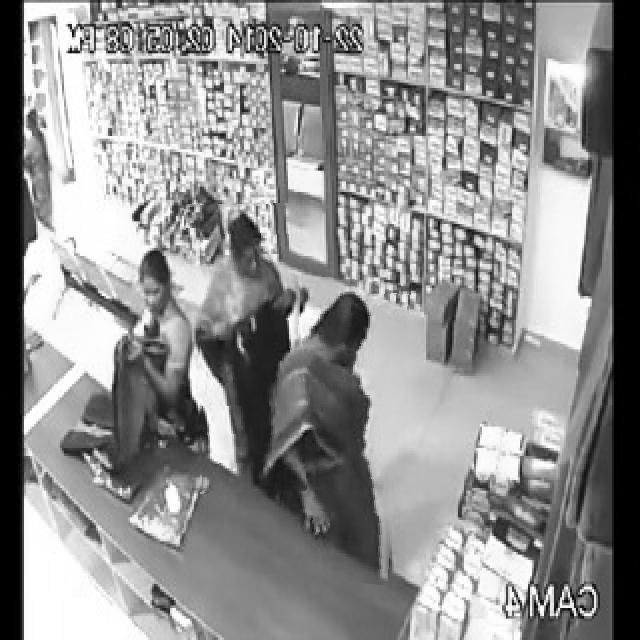normal: (248, 276, 405, 582), (54, 230, 200, 505), (186, 204, 302, 494)
